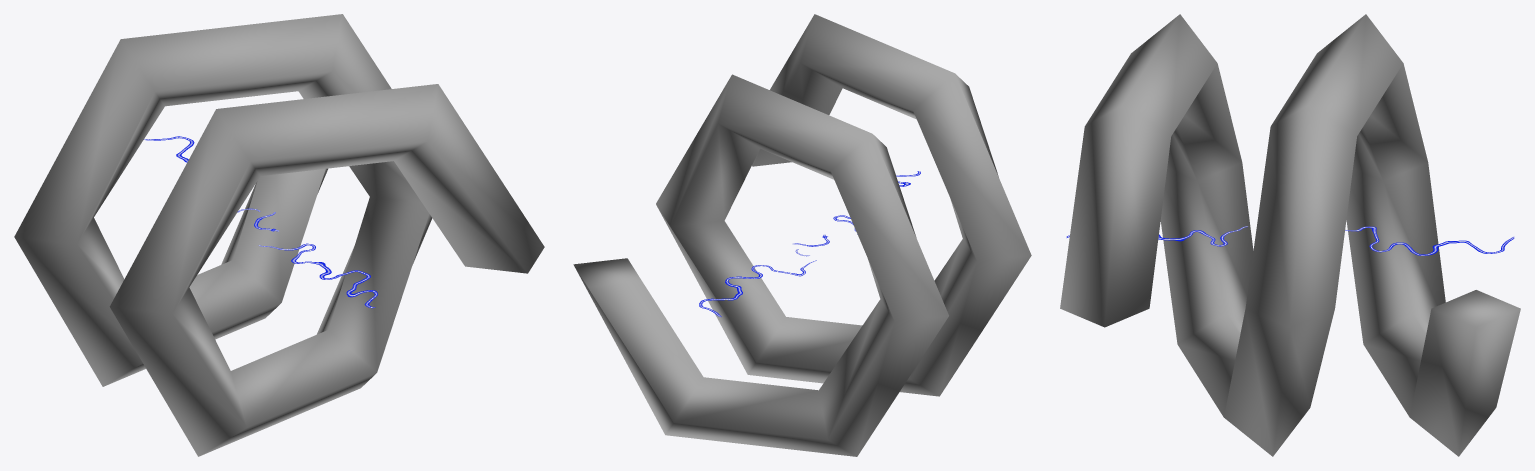
Rendered from shocker.obj.
3 renders of one model, left to right at view 1: azimuth 30°, elevation 25°; view 2: azimuth 150°, elevation 25°; view 3: azimuth 270°, elevation 25°, orthographic. The views are drawn at different scales.
Parts seen in each view (by area): view 1: shocker, lightning; view 2: shocker, lightning; view 3: shocker, lightning.
Boxes of the visible parts, x1=… form: shocker: x1=14, y1=14, x2=544, y2=456; lightning: x1=144, y1=136, x2=377, y2=308; shocker: x1=573, y1=14, x2=1031, y2=456; lightning: x1=699, y1=171, x2=920, y2=316; shocker: x1=1060, y1=14, x2=1520, y2=456; lightning: x1=1066, y1=226, x2=1514, y2=255.
Size of the model in its own units: 1.95 by 1.73 by 2.06.
Materials: 2 (1 with a texture image).
